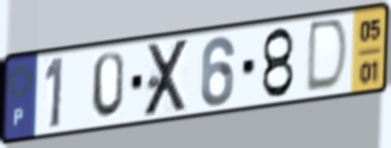0: (89, 50, 126, 122)
1: (42, 54, 65, 132)
6: (198, 34, 237, 109)
8: (260, 25, 296, 100)
D: (303, 16, 352, 96)
X: (141, 36, 193, 121)
